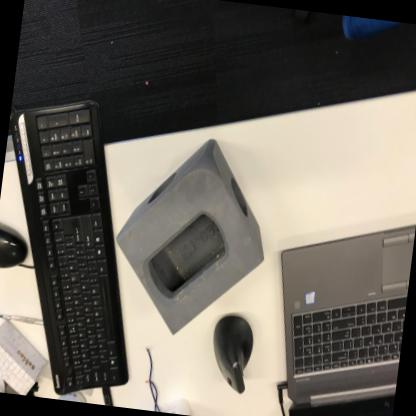CornerCasting: (102, 124, 282, 349)
